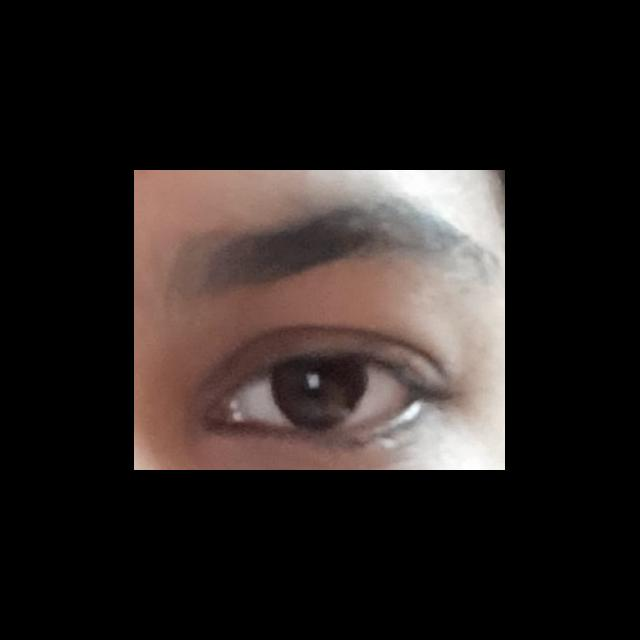eye: (235, 357, 412, 435)
iris: (271, 360, 367, 430)
